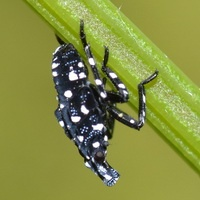insect: (52, 20, 157, 185)
